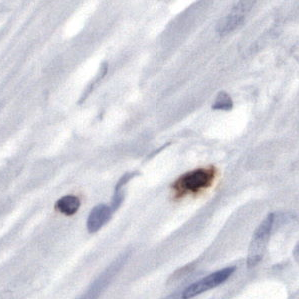Lymphocyte: (177, 168, 216, 193)
